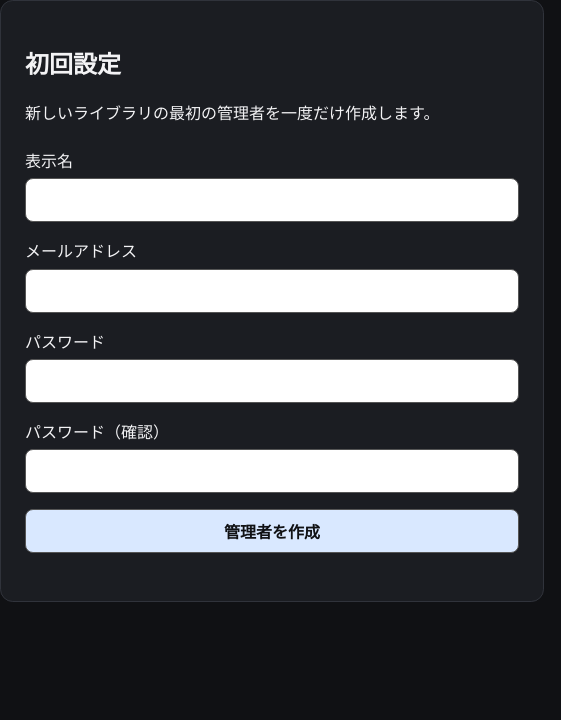
Test case: login and setup UI › reports an already-configured bootstrap without inferring a new auth state
Type "Admin" into the field labelled "表示名" at (272, 200), box [25,178,519,222]
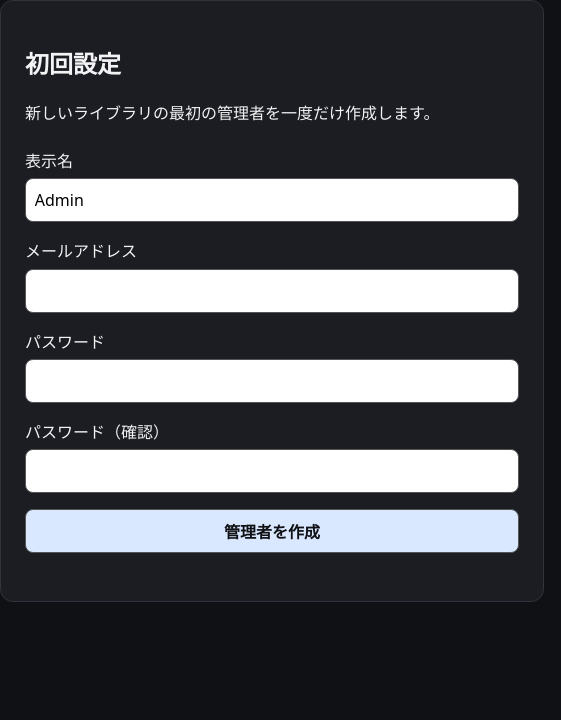
Type "admin@example.invalid" into the field labelled "メールアドレス" at (272, 291), box [25,269,519,313]
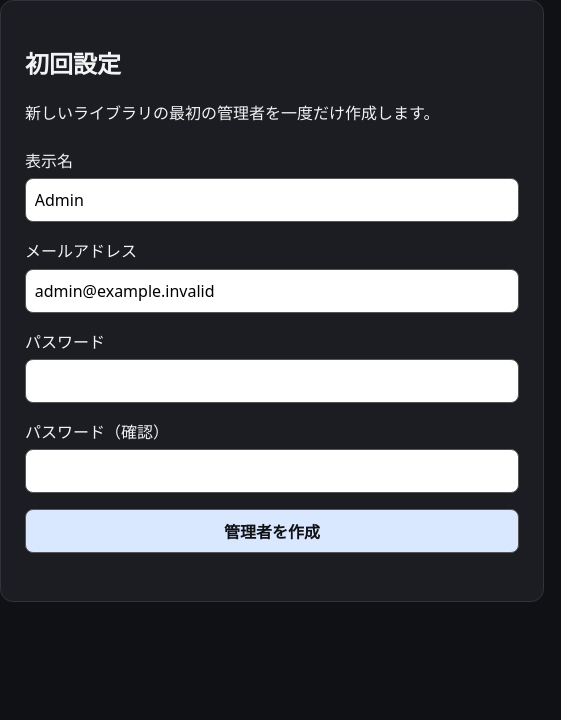
Type "correct horse battery staple" into the password field labelled "パスワード" at (272, 381), box [25,359,519,403]
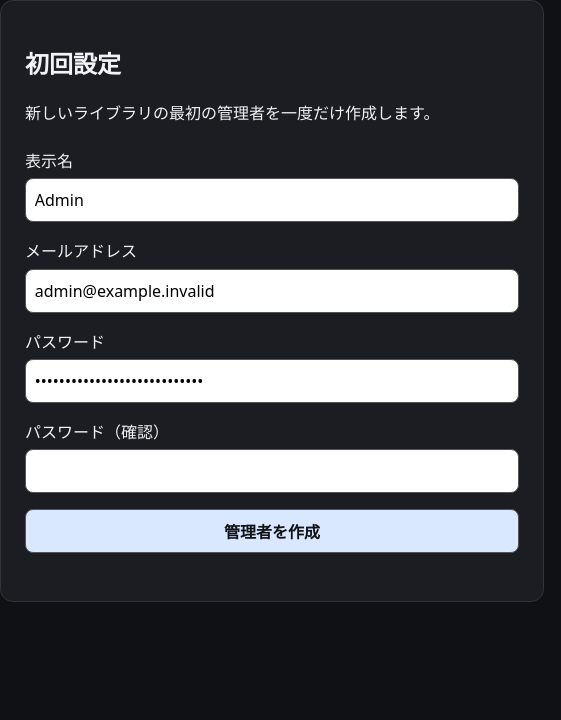
Type "correct horse battery staple" into the password field labelled "パスワード（確認）" at (272, 471), box [25,449,519,493]
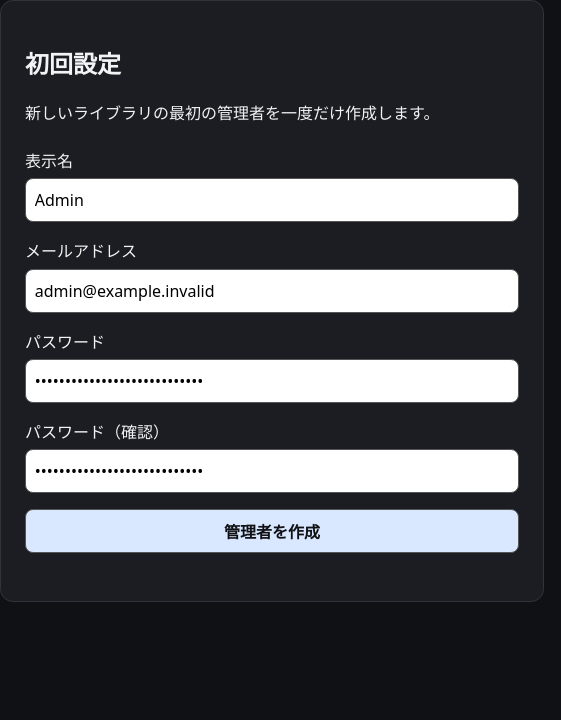
Submit the form "管理者を作成", box [25,148,519,553]
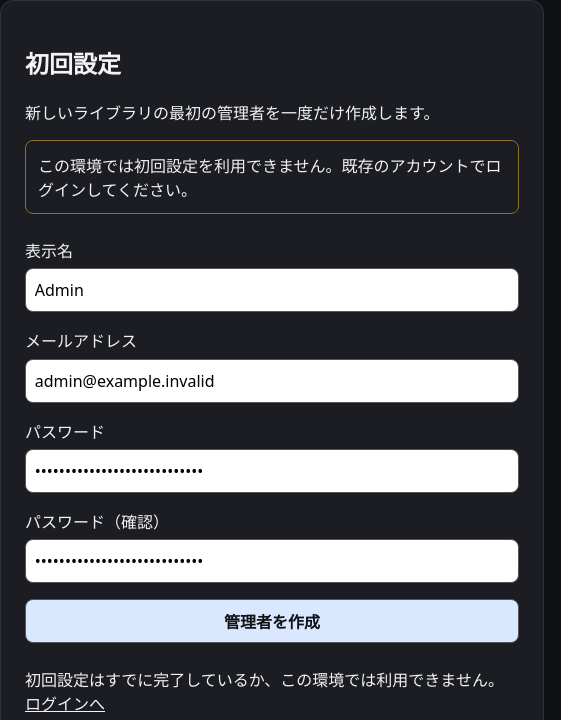
expect the message shows "すでに完了": met, box [25,669,504,691]
